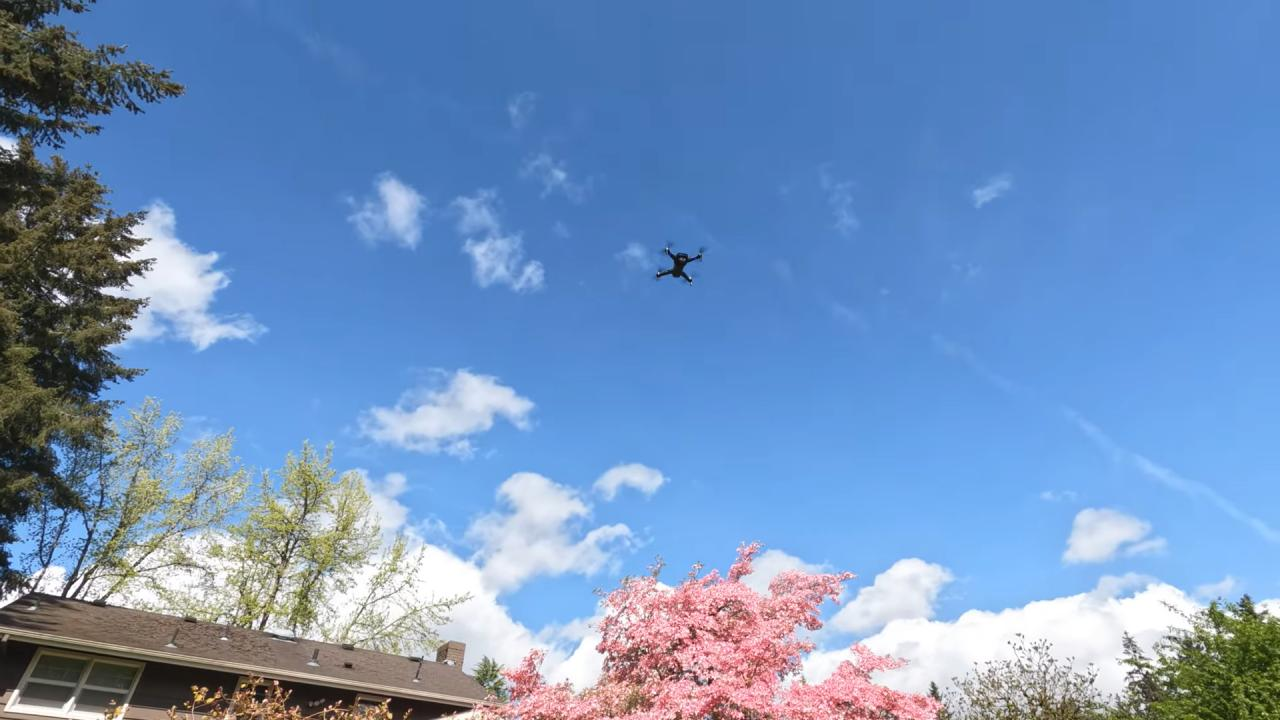Drone: (646, 239, 718, 295)
